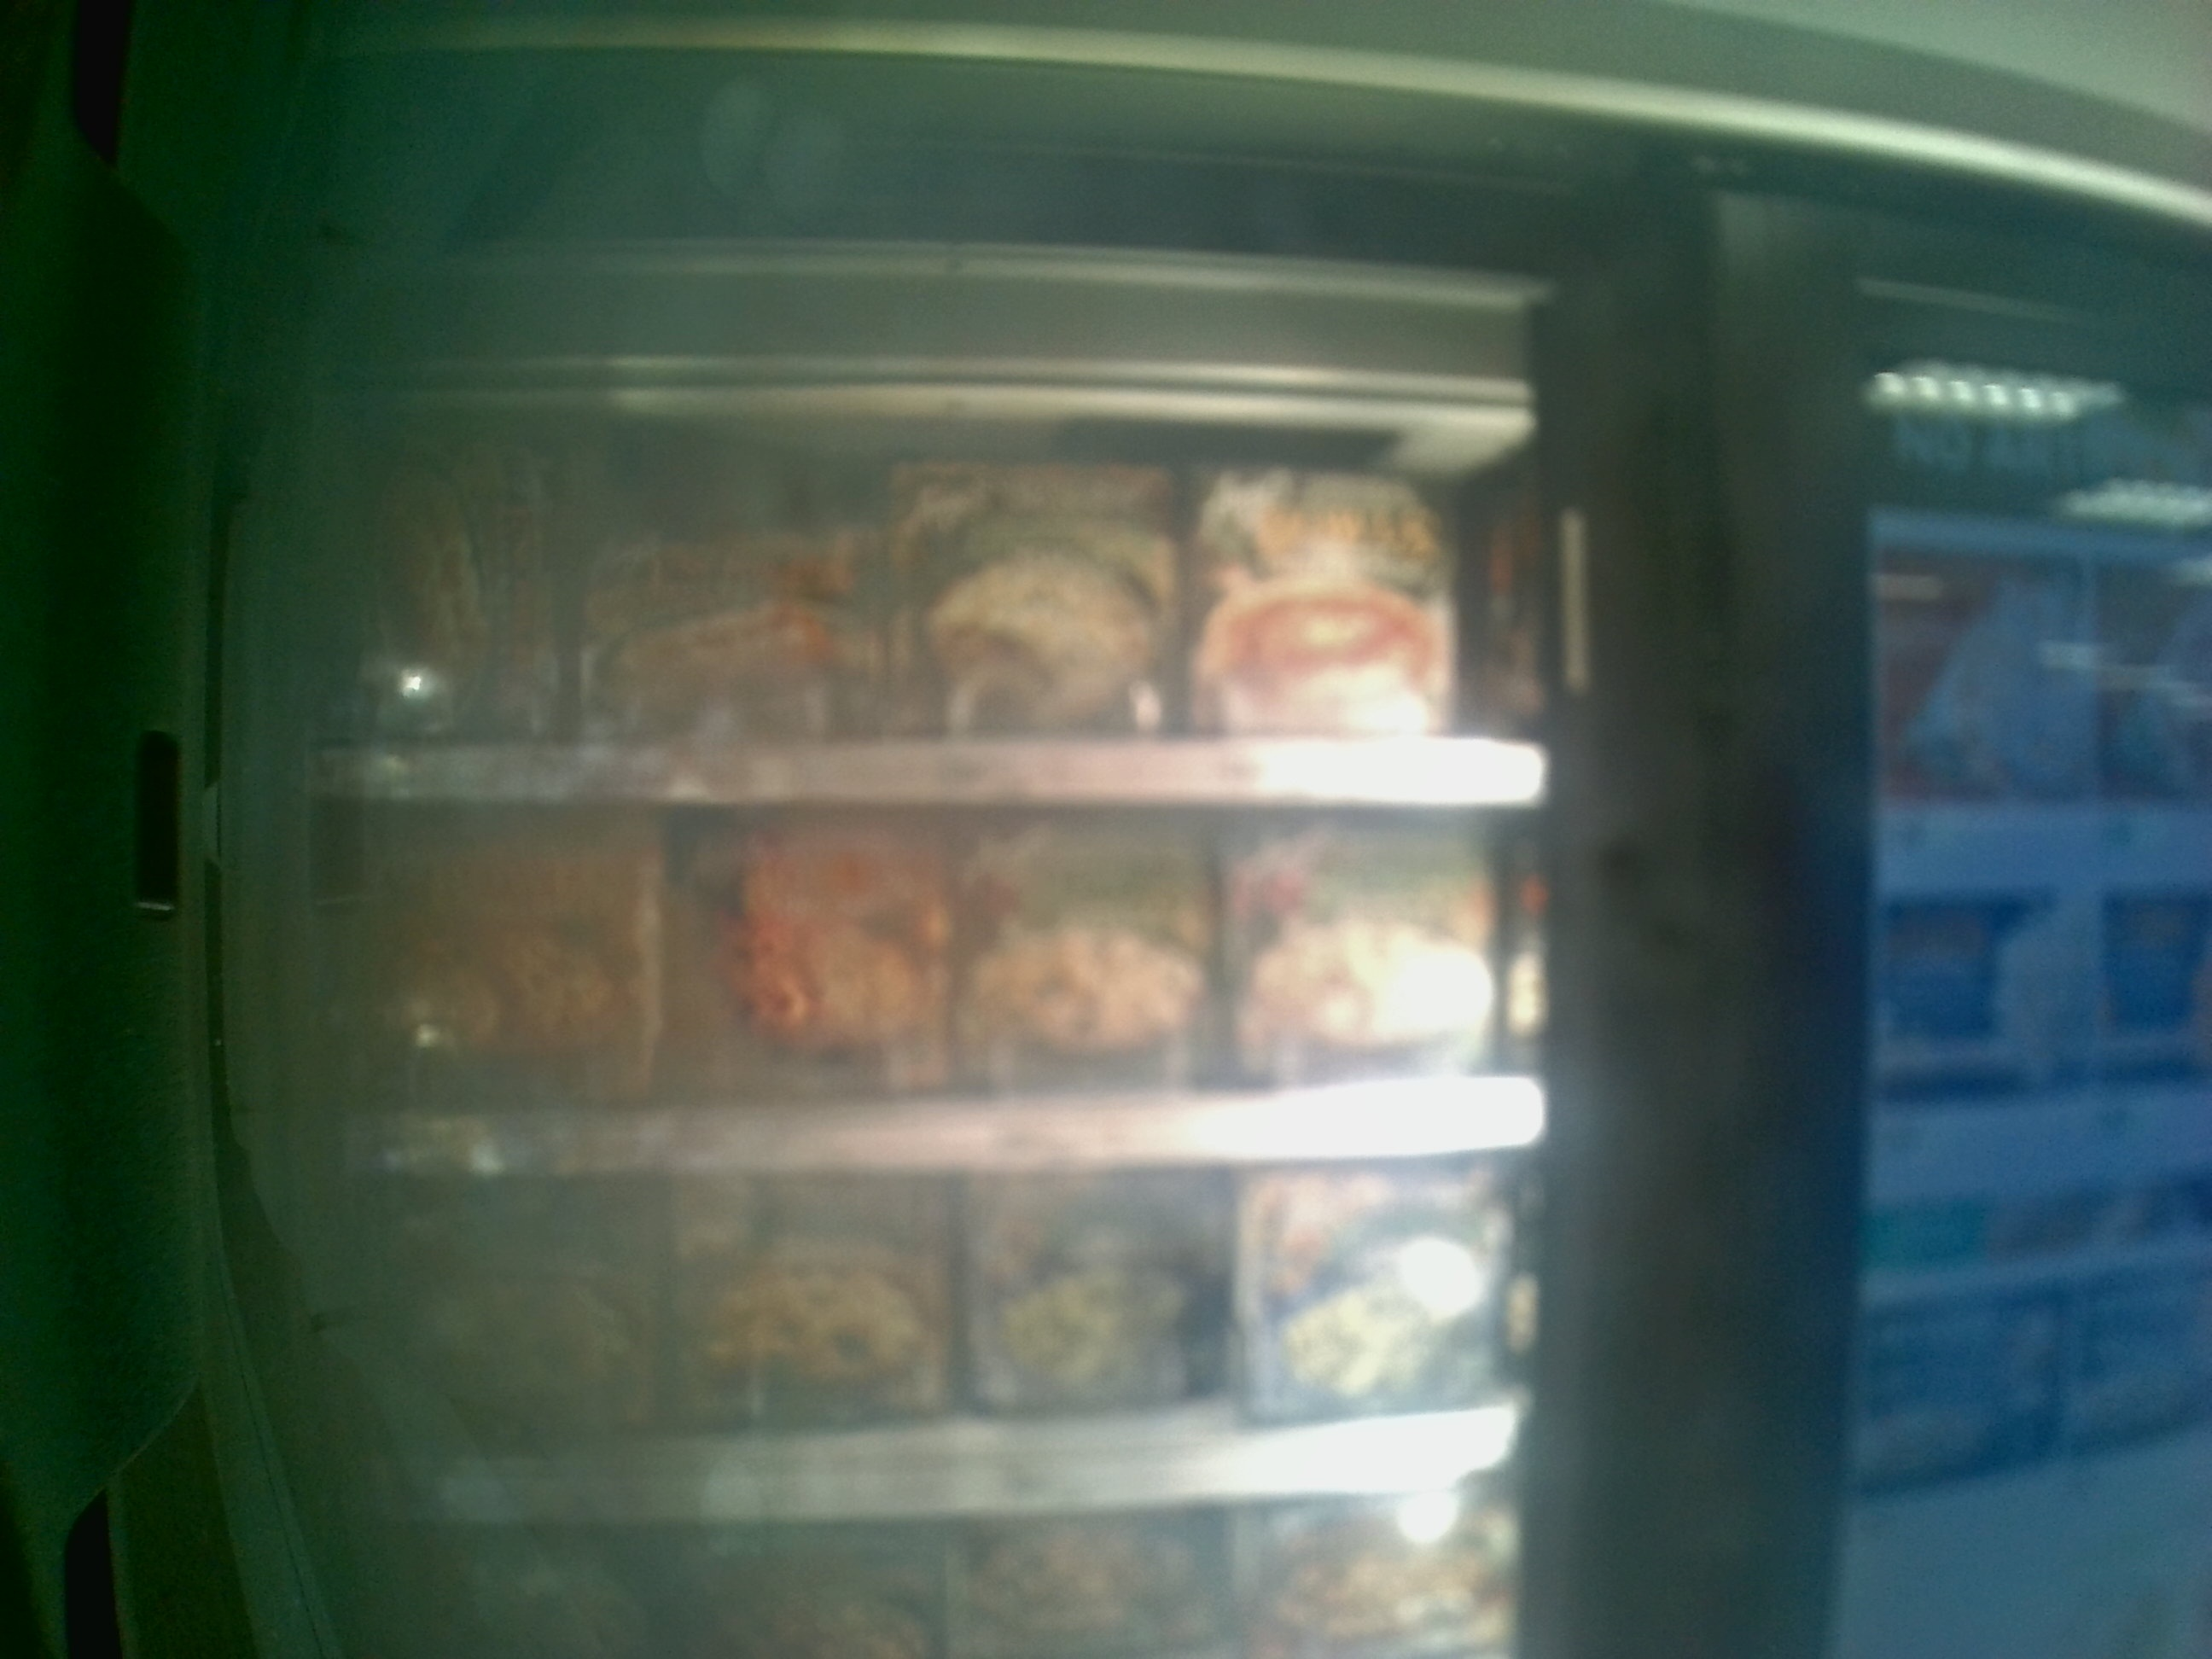frozen-food-shelf: (291, 410, 1564, 812), (291, 814, 1587, 1175), (294, 1175, 1578, 1527)
